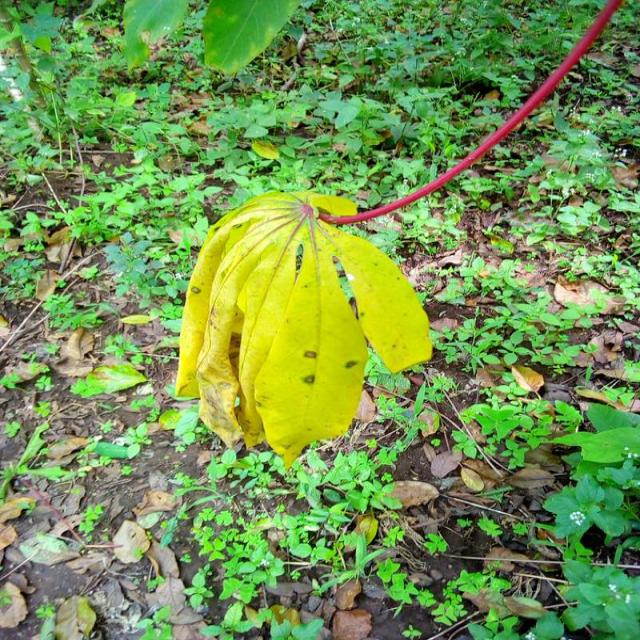cassava leaf: (174, 188, 432, 470)
